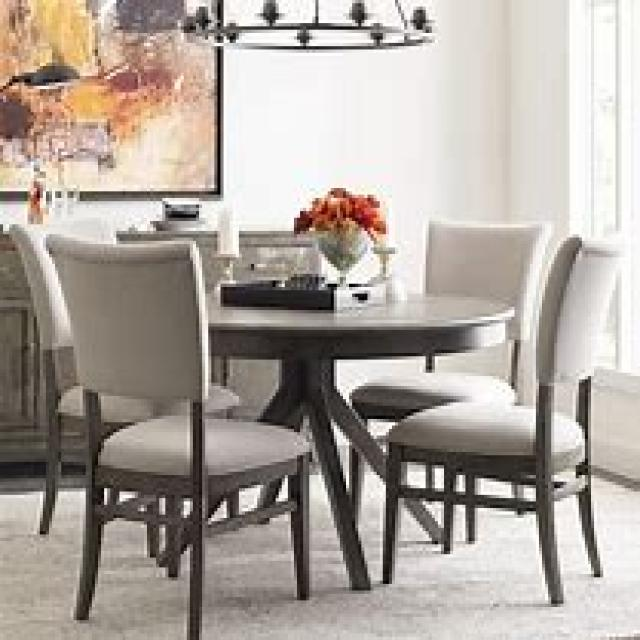chair: (43, 231, 312, 637), (380, 231, 624, 604)
